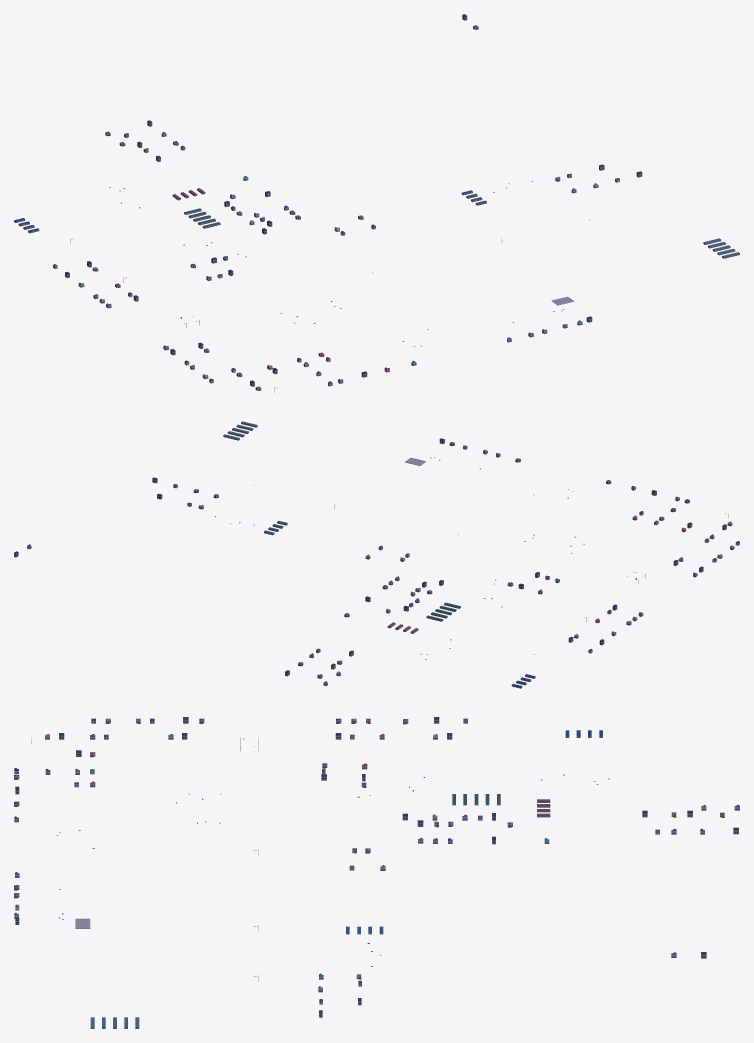
3 views of the same model, one above another, from view 1: azimuth 30°, elevation 25°; view 2: azimuth 150°, elevation 25°; view 3: azimuth 270°, elevation 25° (orthographic). The views are drawn at different scales.
Parts seen in each view (by area): view 1: Joint_0_Object_1; view 2: Joint_0_Object_1; view 3: Joint_0_Object_1.
Boxes of the visible parts, x1,y1,x2,y2 form: Joint_0_Object_1: [14, 14, 739, 390]; Joint_0_Object_1: [14, 421, 739, 688]; Joint_0_Object_1: [14, 717, 739, 1028].
Size of the model in its own units: 9750 by 975 by 9740.
Materials: 2 (2 with a texture image).
